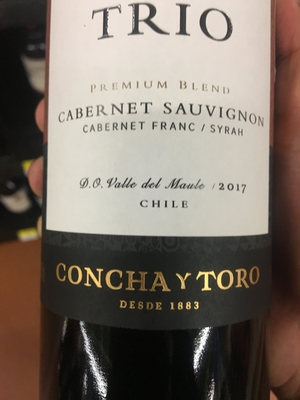trio cabernet sauvignon: (43, 1, 280, 400)
